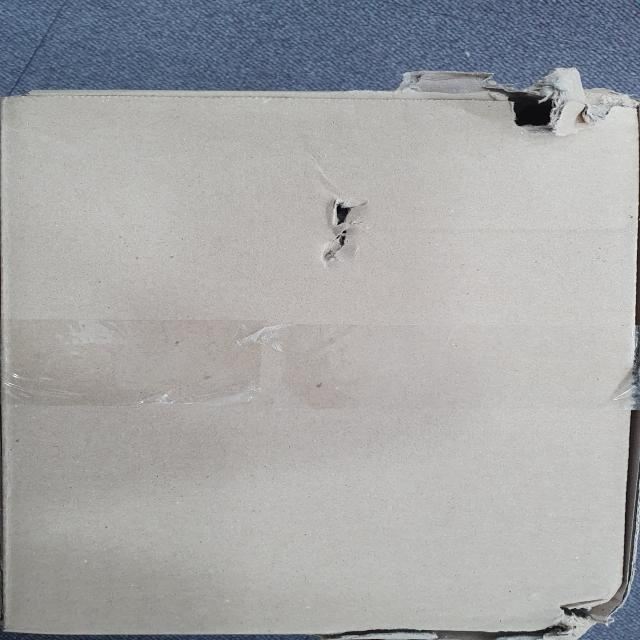hole: (323, 592, 622, 640), (465, 68, 637, 132), (301, 196, 379, 270)
